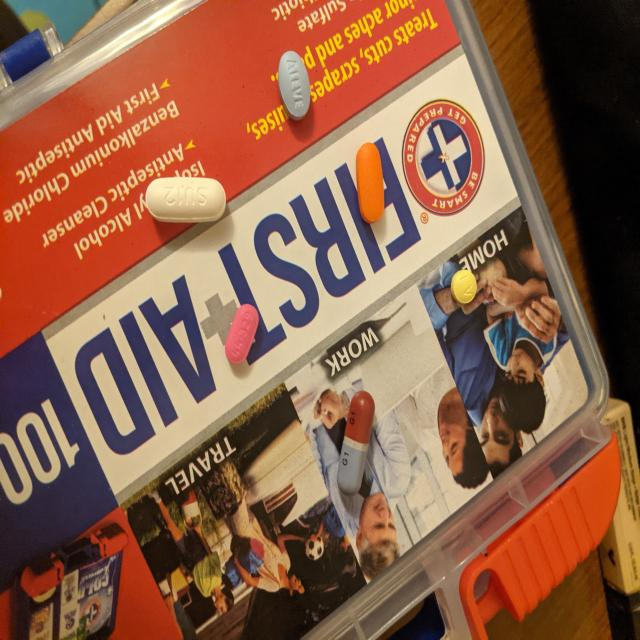non-organic waste: (336, 390, 376, 498), (145, 175, 227, 224), (355, 141, 386, 224), (277, 49, 312, 121), (224, 303, 260, 365), (451, 269, 478, 305)
